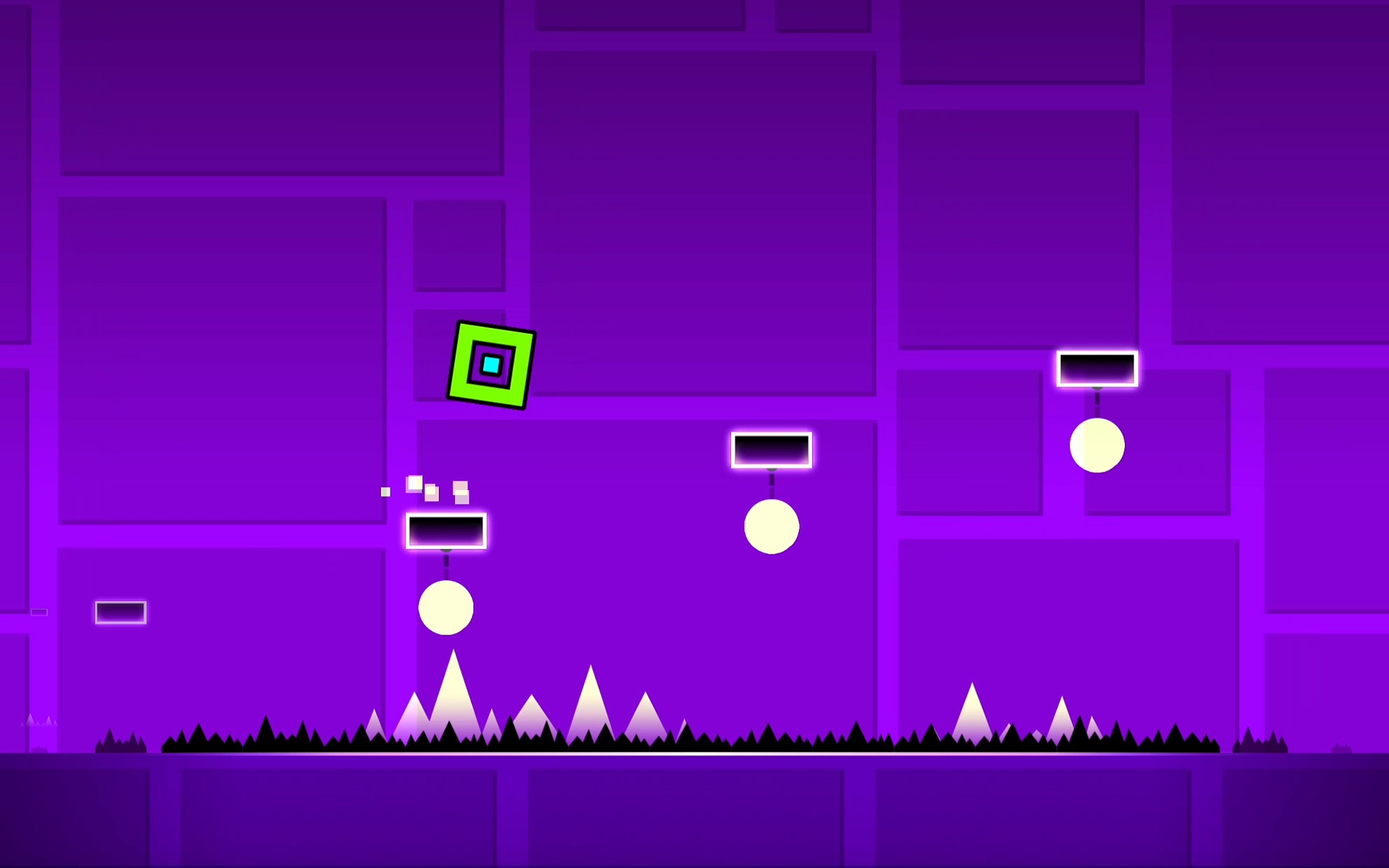Block3: (1056, 353, 1140, 389), (731, 432, 815, 468), (403, 514, 489, 549), (97, 602, 150, 625)
Player: (451, 325, 536, 411)
Spike2: (28, 715, 1371, 761)
